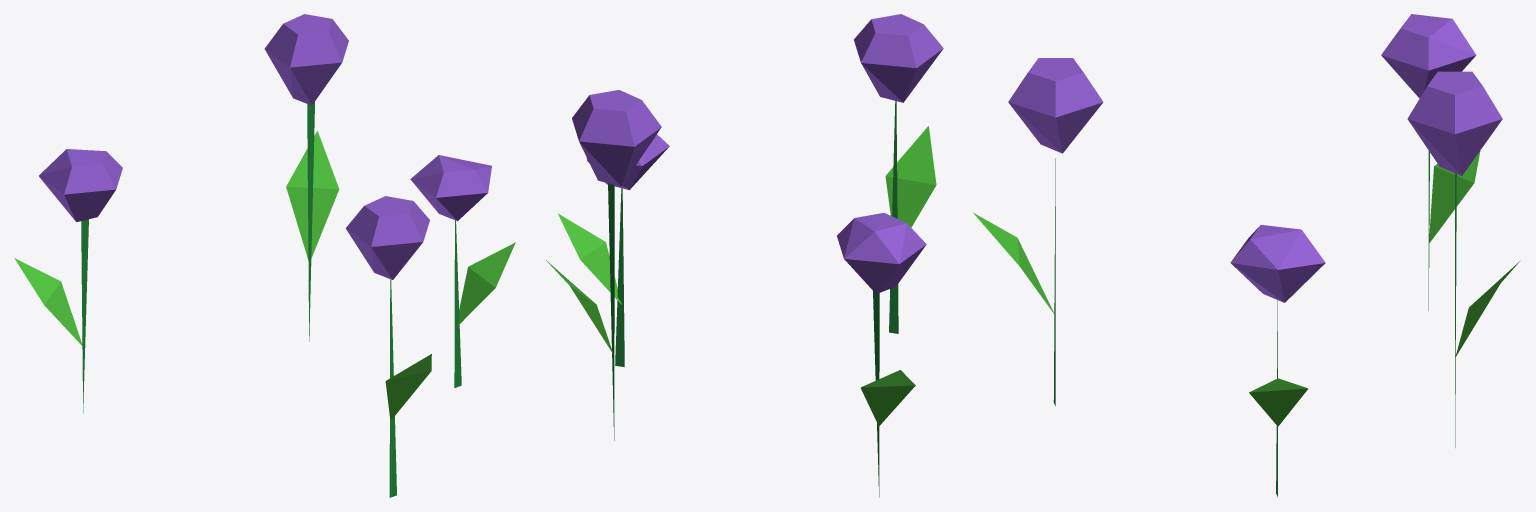
File: flower_lavender_patch.fbx
3 renders of one model, left to right at view 1: azimuth 30°, elevation 25°; view 2: azimuth 150°, elevation 25°; view 3: azimuth 270°, elevation 25°, orthographic. The views are drawn at different scales.
Visible parts, largest first — view 1: flower_lavender_patch; view 2: flower_lavender_patch; view 3: flower_lavender_patch.
Boxes of the visible parts, bbox=[...] form: flower_lavender_patch: bbox=[14, 14, 515, 497]; flower_lavender_patch: bbox=[546, 14, 943, 497]; flower_lavender_patch: bbox=[973, 14, 1519, 496].
Size of the model in its own units: 0.8 by 0.6 by 0.8.
